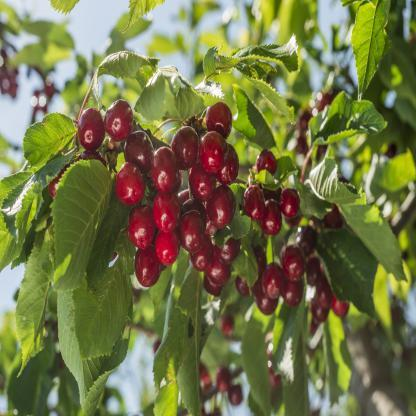Cherry leaf: (49, 157, 118, 294), (68, 249, 136, 366), (16, 222, 56, 395), (307, 89, 400, 162), (174, 270, 210, 415), (305, 150, 382, 216), (349, 1, 392, 118), (15, 106, 80, 172), (115, 0, 170, 38)
